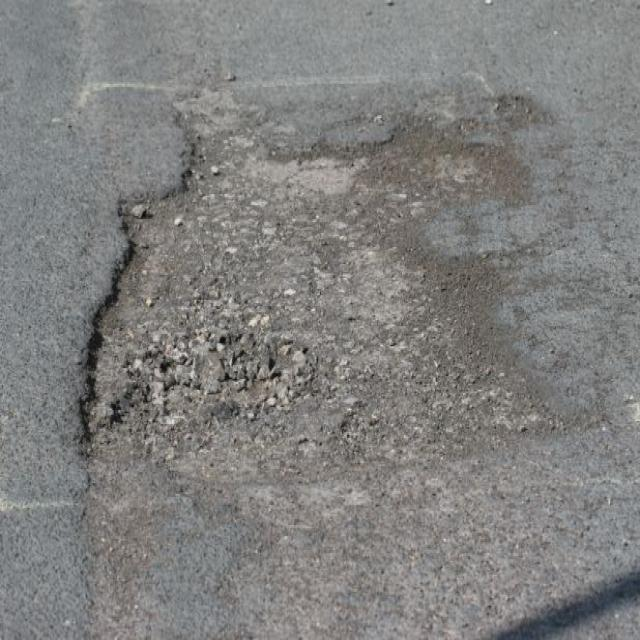pothole: (66, 78, 571, 470)
